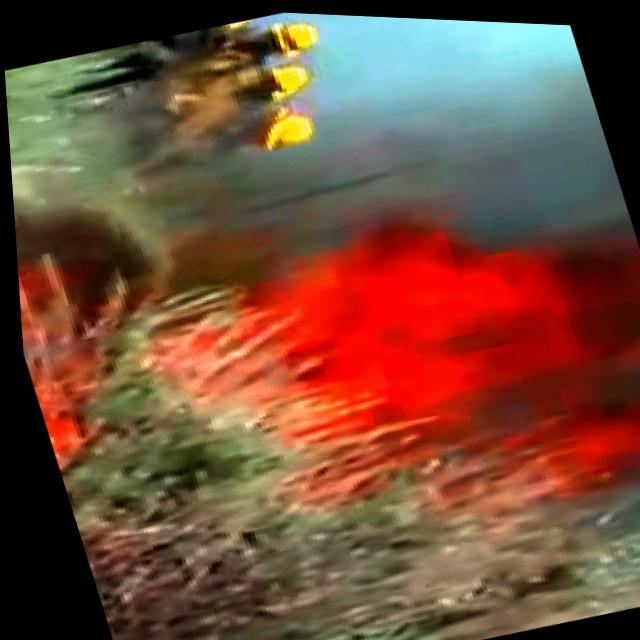fire: (283, 167, 640, 476), (14, 262, 167, 532)
